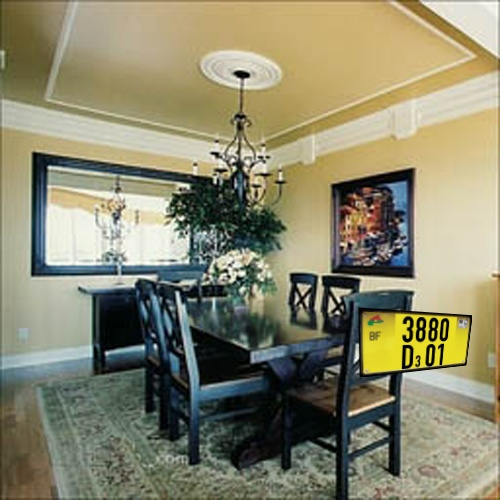plate: (342, 296, 485, 390)
